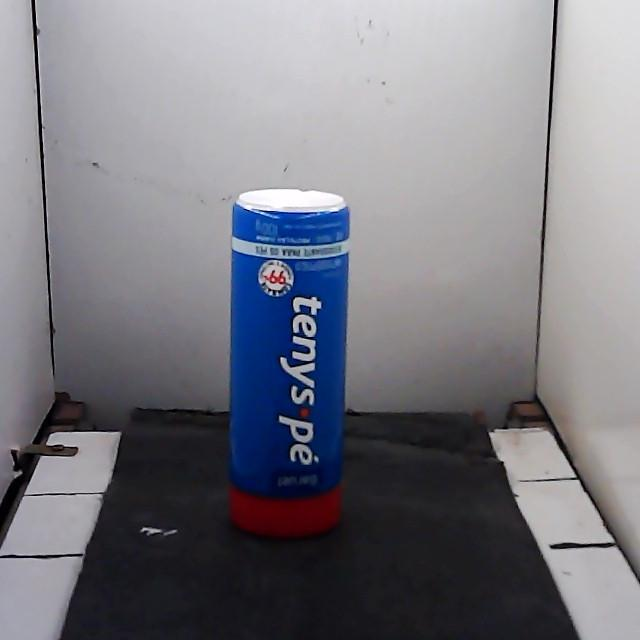plastico: (230, 189, 350, 537)
